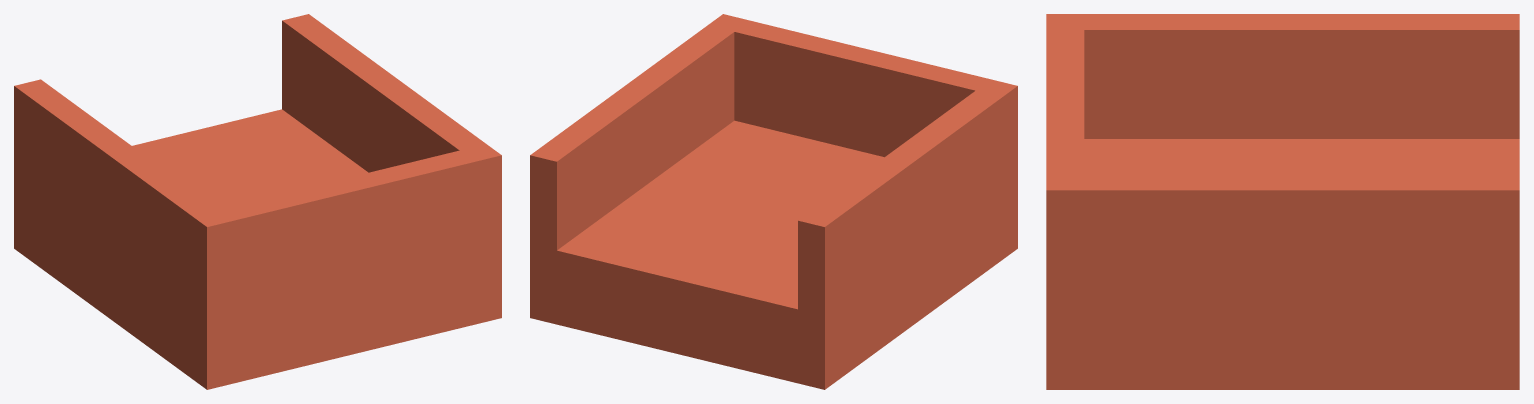
File: PotionReceiver.fbx
The picture shows the model from 3 angles, left to right: view 1: azimuth 30°, elevation 25°; view 2: azimuth 150°, elevation 25°; view 3: azimuth 270°, elevation 25°; orthographic projection. The views are drawn at different scales.
Visible parts, largest first — view 1: Cube.003; view 2: Cube.003; view 3: Cube.003.
Part boxes in pixels (box(x1,y1,x2,y2)): Cube.003: box(14, 14, 501, 389); Cube.003: box(530, 14, 1017, 389); Cube.003: box(1046, 14, 1519, 389).
Bounding box in the file's own units: 203 × 107 × 230.
